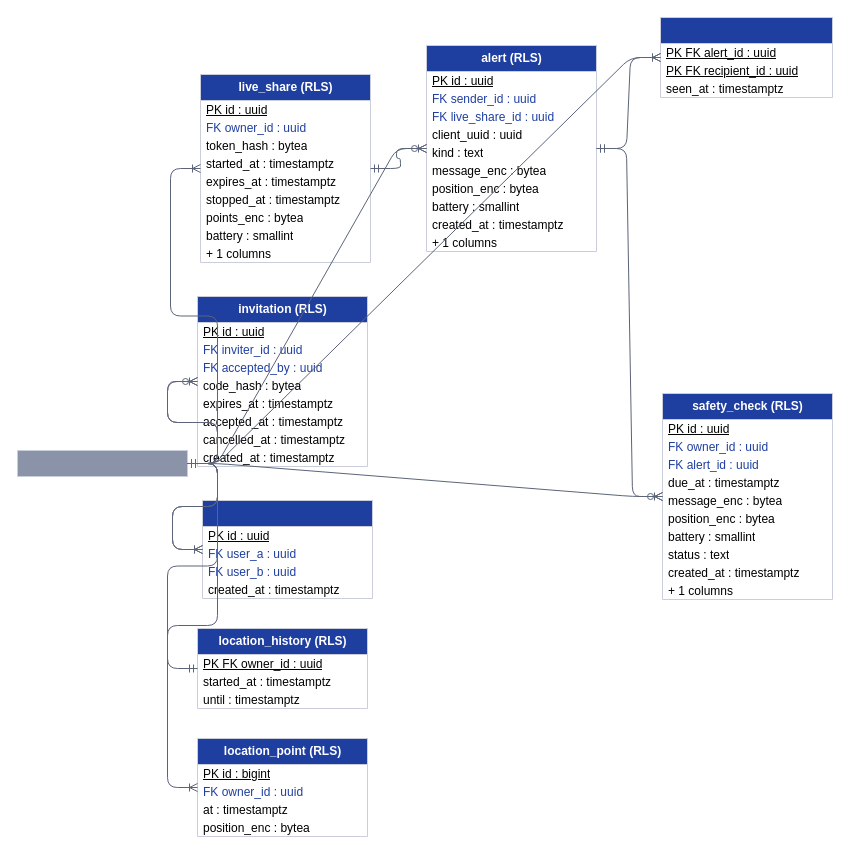
Image size: 850x854. Some labels were removed from this diagram. The shapes that lost their labels are listed below. From the top down, each one's box as (x1, y1, x2, y2) in pixels, then its label:
(660, 16, 832, 98): alert_recipient (RLS)
(16, 450, 188, 476): identity.account
(202, 500, 372, 598): link (RLS)
